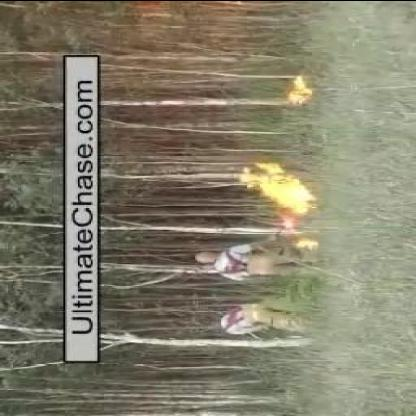foggia-v2-map80-epoch100 - v1 4323: (240, 162, 318, 219), (286, 76, 312, 102)
